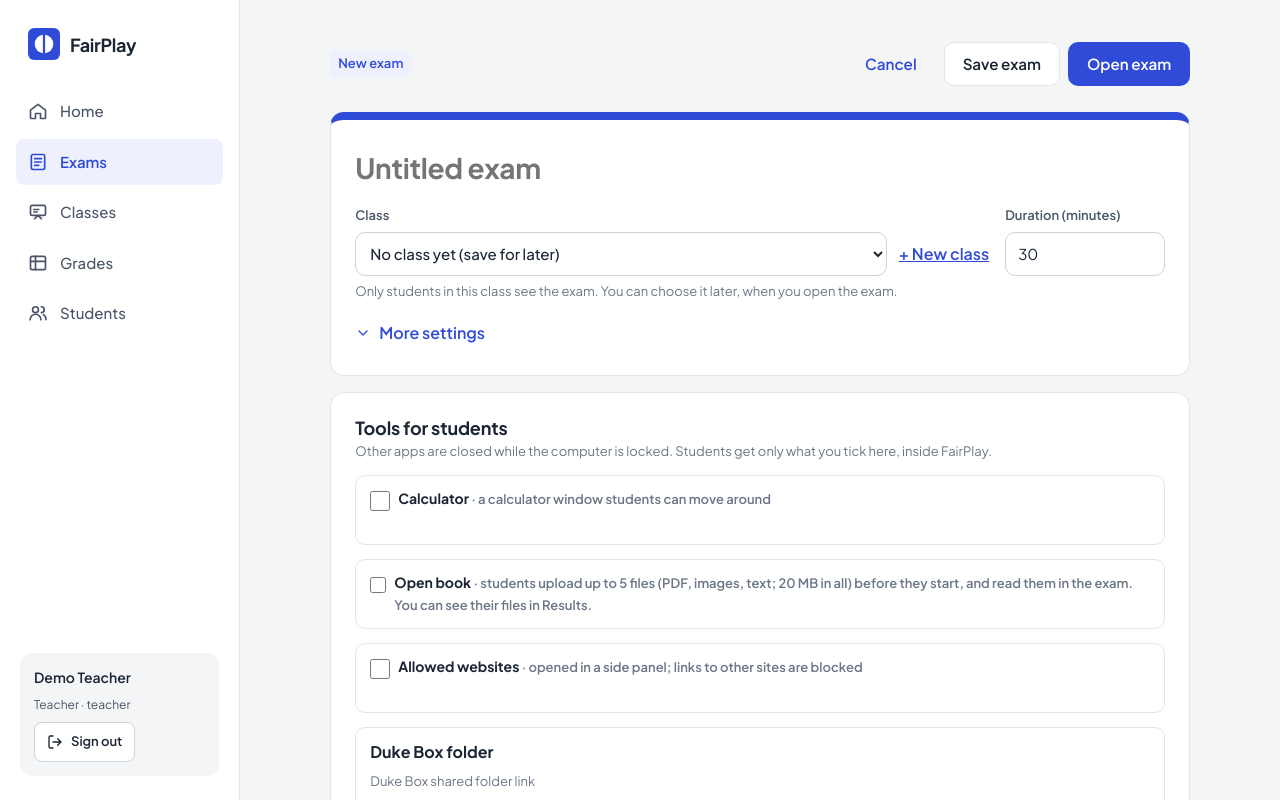
Test: 2026-10-13 simpler exam editor › switches a question's type in its card and keeps the text
Type "Quiz" into the field with id "exam-title" at (666, 168), box x1=346 y1=144 x2=986 y2=192
(page scrolled)
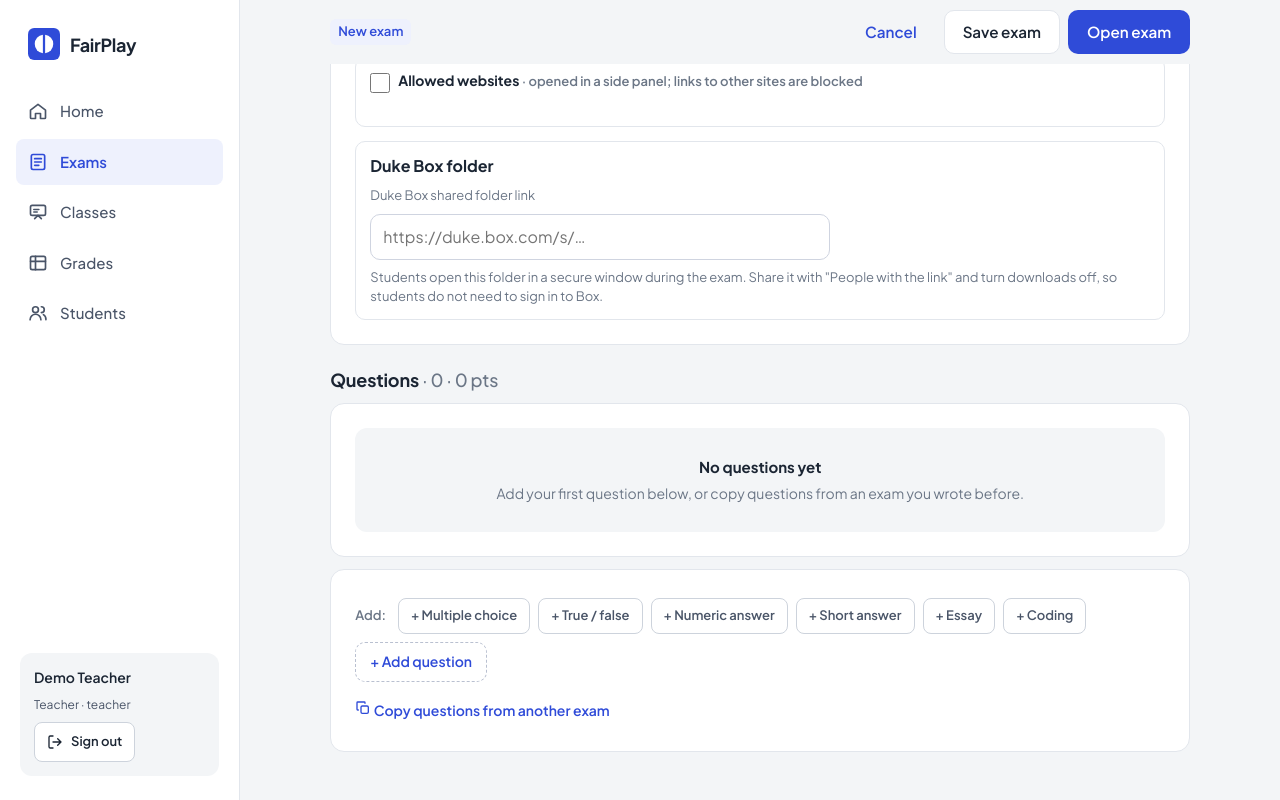
Click the button "+ Numeric answer" at (719, 616), box x1=650 y1=598 x2=788 y2=634
(page scrolled)
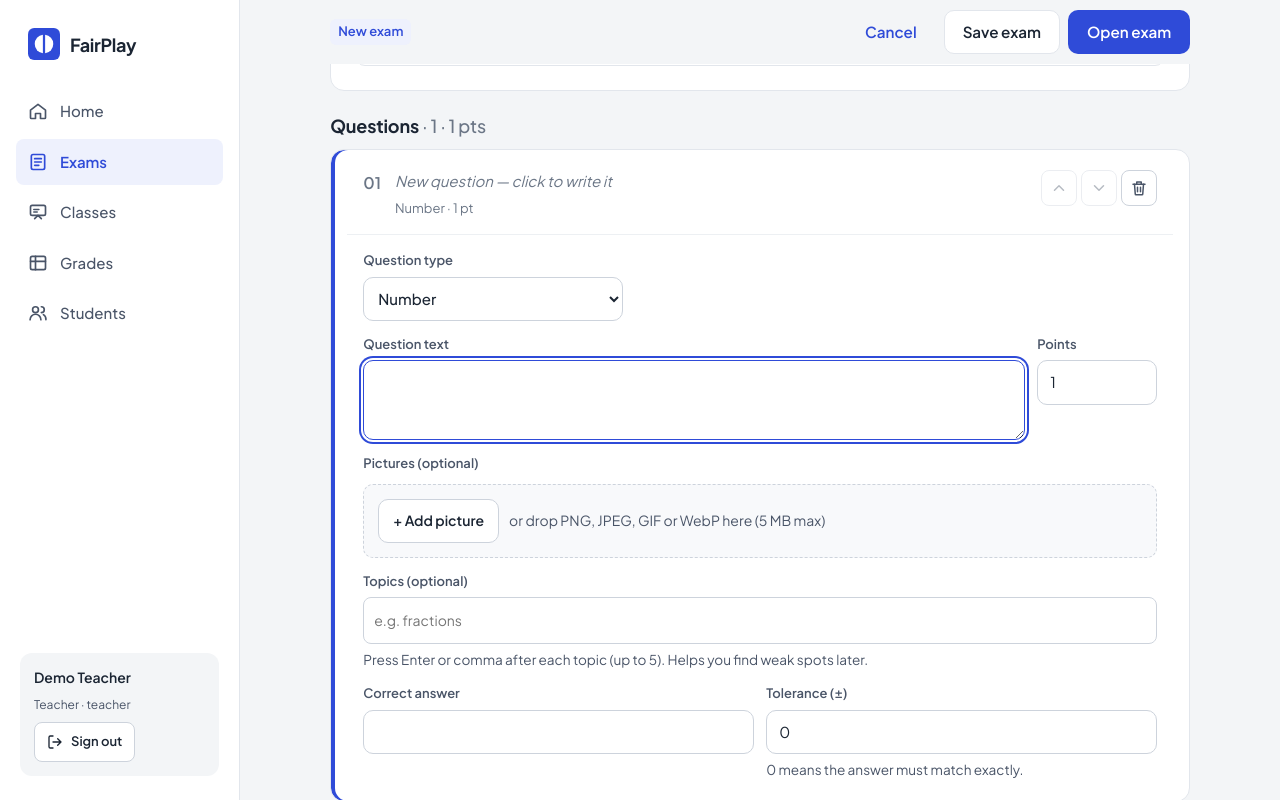
Type "2+2?" into the text box labelled "Question text" at (694, 400), box x1=363 y1=360 x2=1025 y2=440
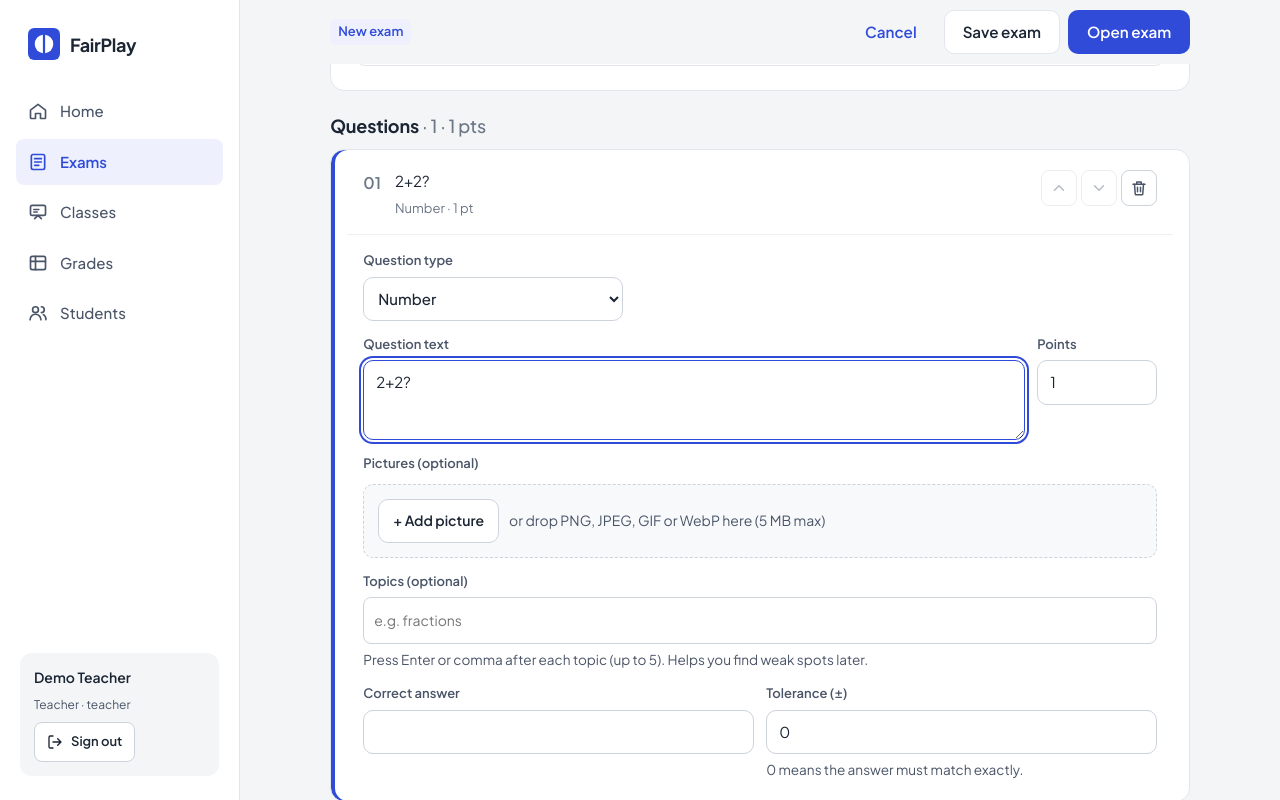
Type "4" into the field labelled "Correct answer" at (559, 732), box x1=363 y1=710 x2=754 y2=754
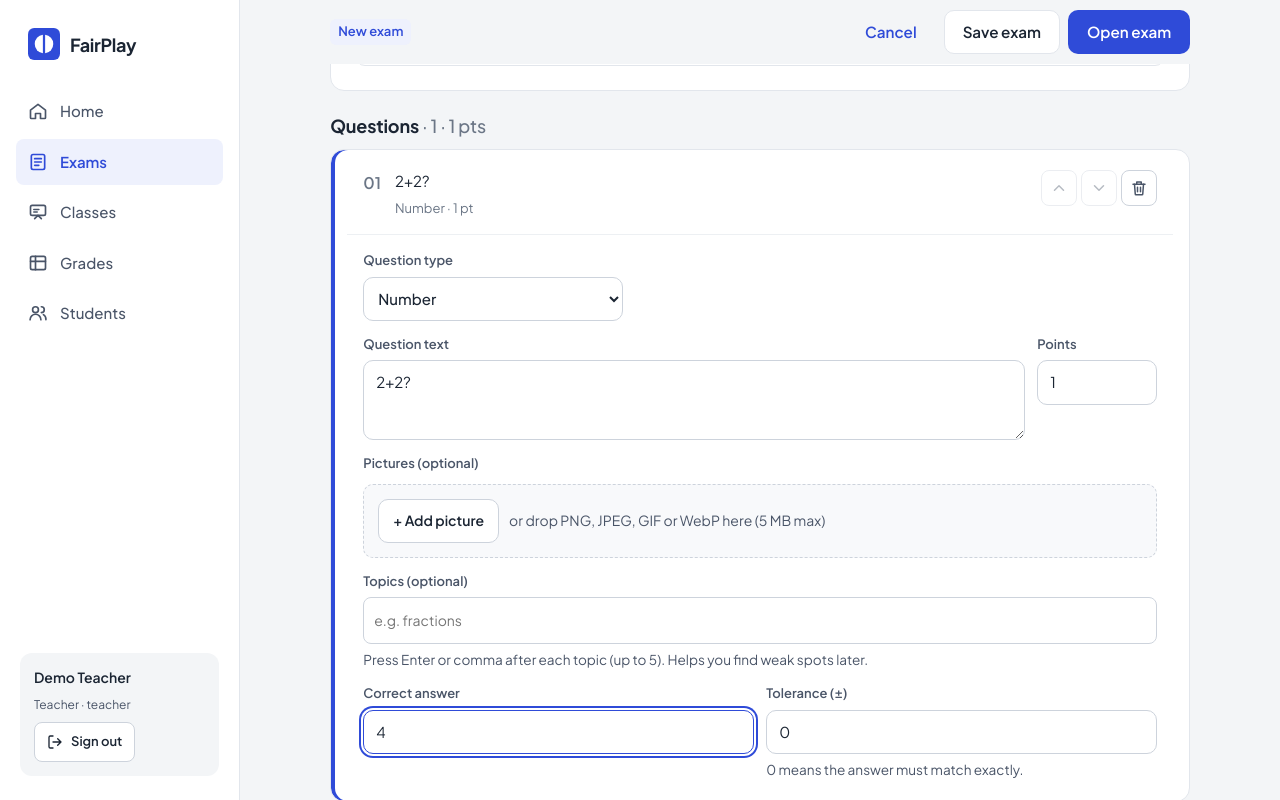
Select "Short answer" in the dropdown labelled "Question type" at (493, 298), box x1=363 y1=276 x2=623 y2=320
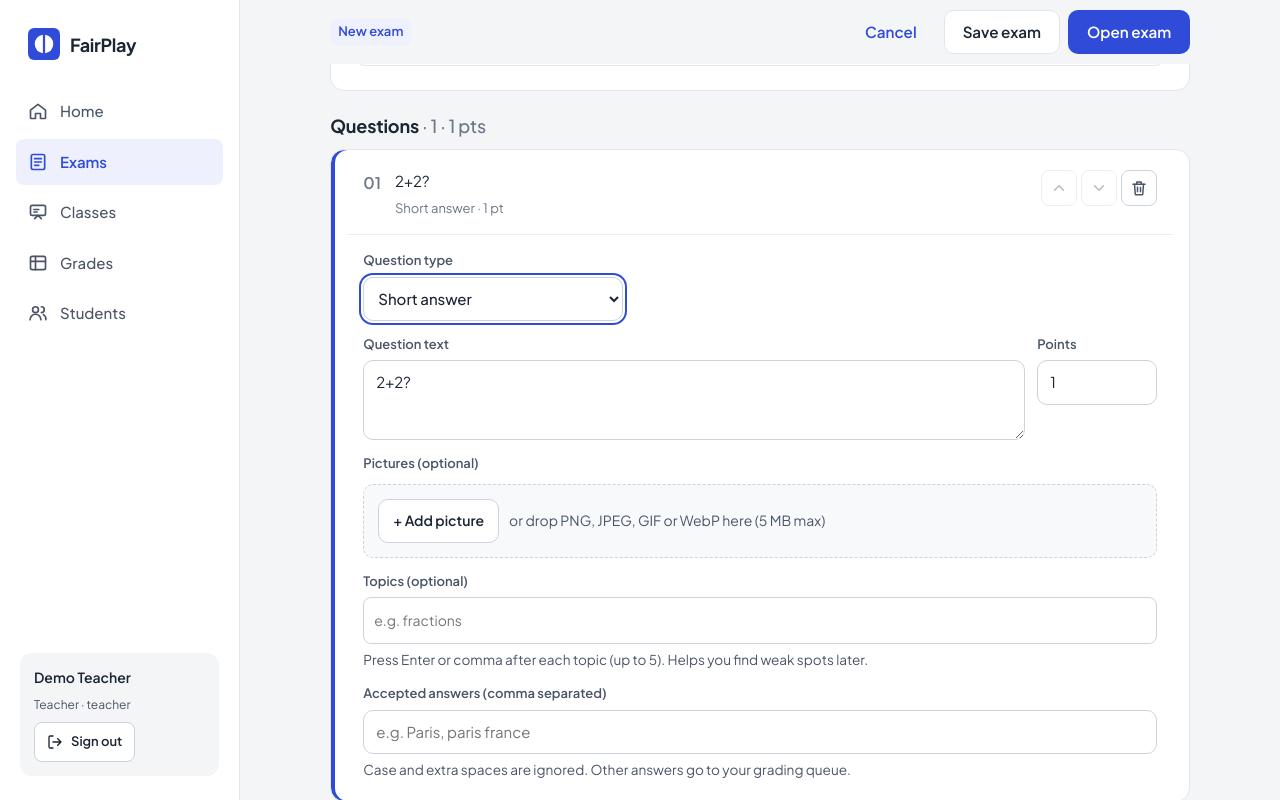
Check: the field labelled "Accepted answers (comma separated)" is shown, box x1=363 y1=710 x2=1157 y2=754
